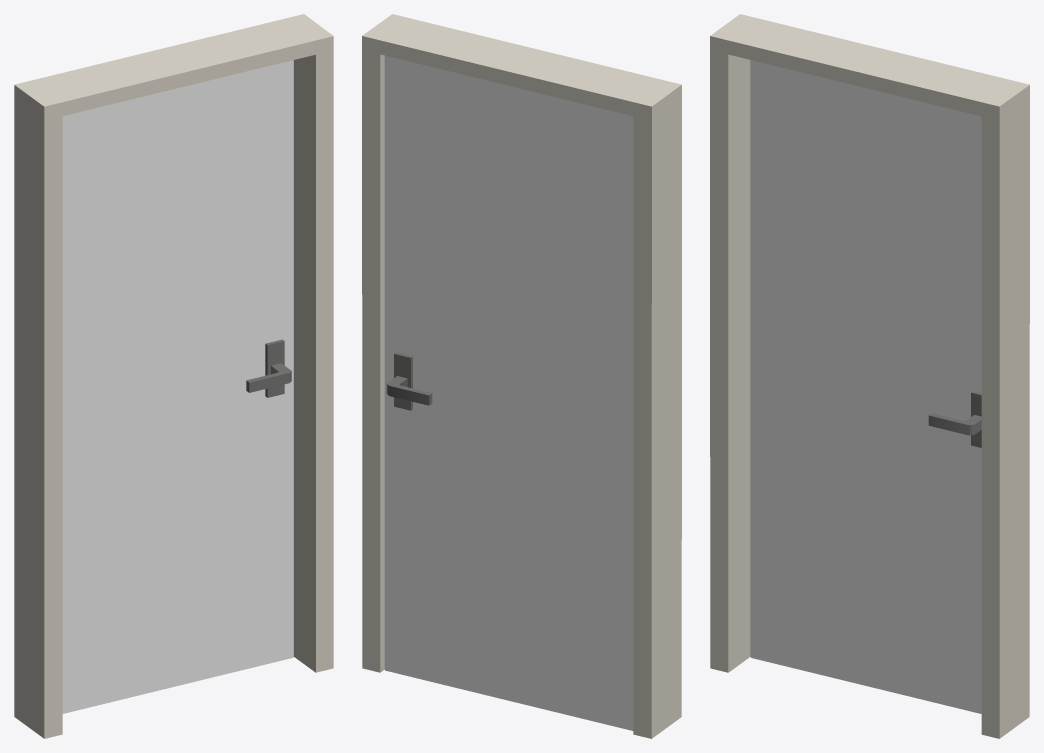
The model's file is Door_02.fbx.
3 views of the same model, side by side, from view 1: azimuth 30°, elevation 25°; view 2: azimuth 150°, elevation 25°; view 3: azimuth 330°, elevation 25° (orthographic).
Visible parts, largest first — view 1: Door_02, Door_02_Frame; view 2: Door_02, Door_02_Frame; view 3: Door_02, Door_02_Frame.
Part boxes in pixels (bbox=[...]): Door_02: bbox=[62, 60, 293, 713]; Door_02_Frame: bbox=[14, 14, 333, 738]; Door_02: bbox=[384, 55, 633, 730]; Door_02_Frame: bbox=[362, 14, 681, 738]; Door_02: bbox=[750, 60, 981, 713]; Door_02_Frame: bbox=[710, 14, 1029, 738].
Size of the model in its own units: 1.03 by 2.15 by 0.252.
Materials: 1 (1 with a texture image).
